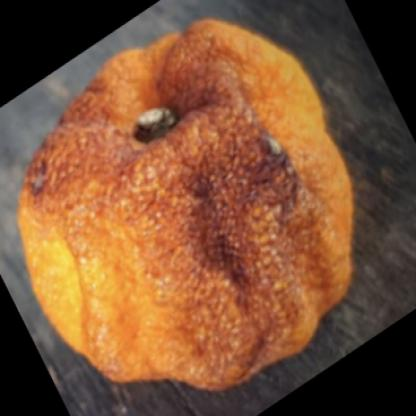rotten: (18, 19, 353, 394)
